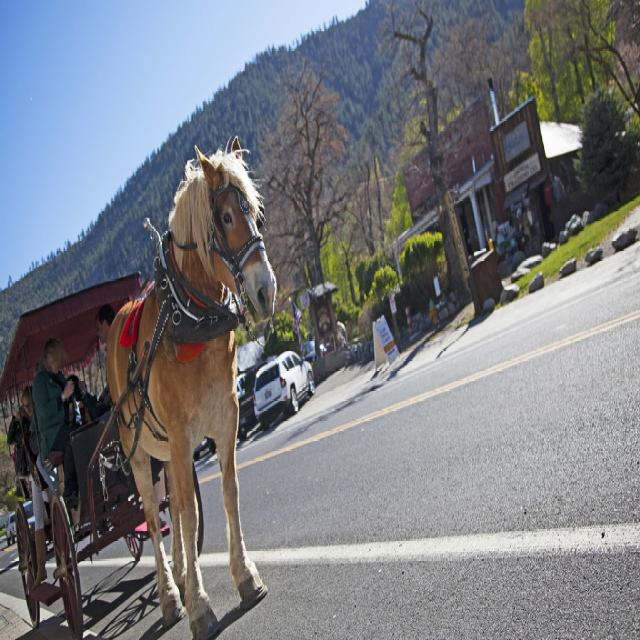car: (254, 341, 318, 420)
